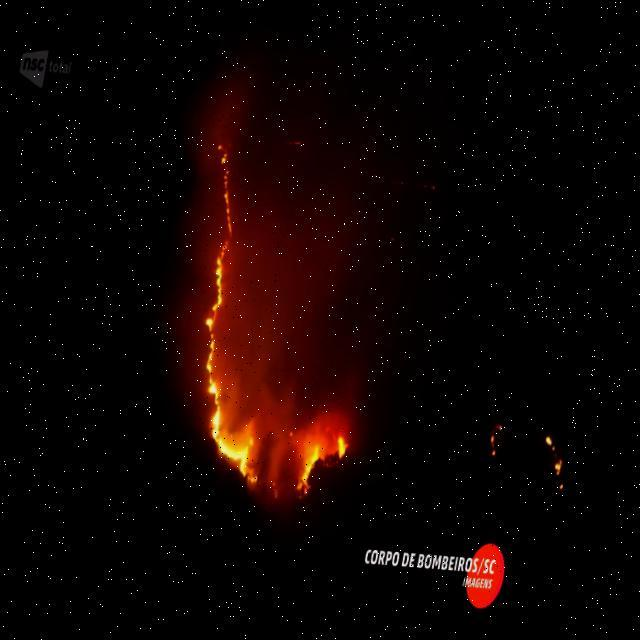Fire: (180, 140, 322, 480), (306, 432, 338, 482), (557, 426, 581, 466), (349, 424, 366, 454)
